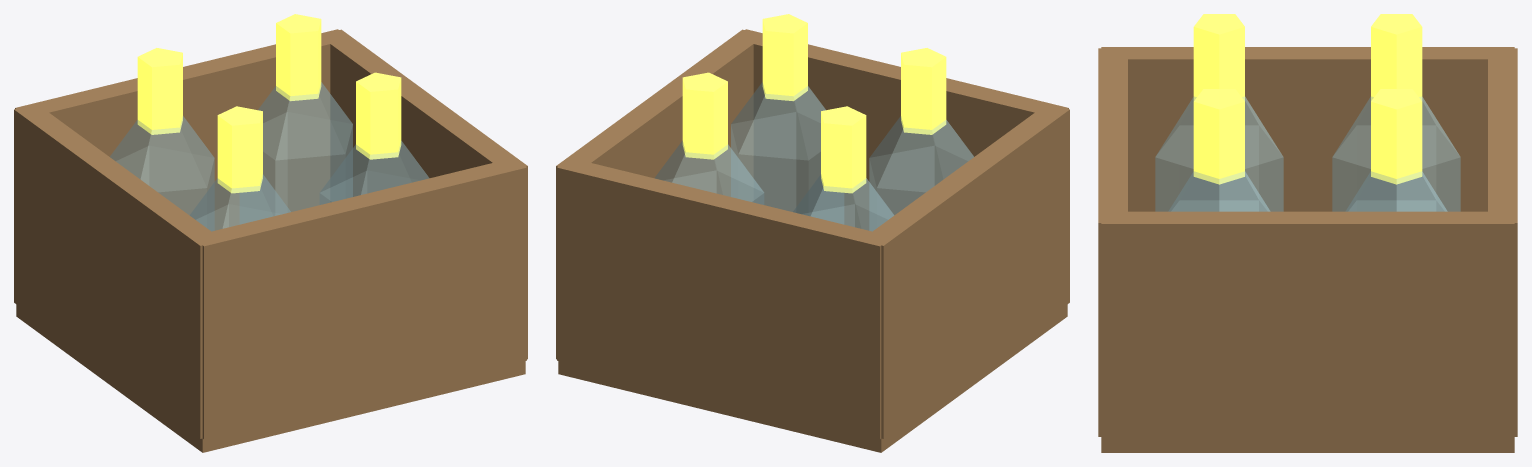
The model's file is Prop_Crate_Juice.fbx.
3 renders of one model, left to right at view 1: azimuth 30°, elevation 25°; view 2: azimuth 150°, elevation 25°; view 3: azimuth 270°, elevation 25°, orthographic. The views are drawn at different scales.
Parts seen in each view (by area): view 1: Prop_Crate_Juice; view 2: Prop_Crate_Juice; view 3: Prop_Crate_Juice.
Boxes of the visible parts, x1=… form: Prop_Crate_Juice: x1=14, y1=14, x2=527, y2=452; Prop_Crate_Juice: x1=556, y1=14, x2=1069, y2=452; Prop_Crate_Juice: x1=1098, y1=14, x2=1517, y2=452.
Size of the model in its own units: 0.71 by 0.57 by 0.71.
